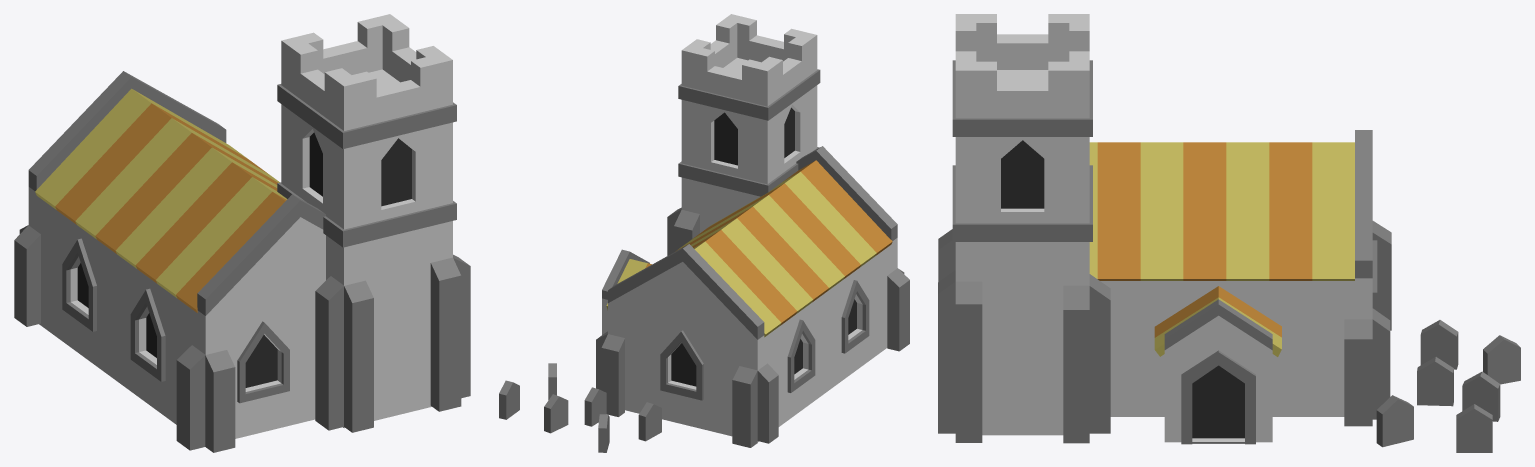
Rendered from Chruch1.fbx.
3 views of the same model, side by side, from view 1: azimuth 30°, elevation 25°; view 2: azimuth 150°, elevation 25°; view 3: azimuth 270°, elevation 25° (orthographic). The views are drawn at different scales.
Visible parts, largest first — view 1: Cube.001, Cube.222, Cube.003, Cube.221, Cube.220, Cube.060, Cube.243, Cube.006, Cube.007, Cube.244, Cube.009, Cube.061 (+3 smaller); view 2: Cube.001, Cube.222, Cube.003, Cube.243, Cube.008, Cube.058, Cube.007, Cube.009, Cube.244, Cube.235, Cube.240, Cube.219 (+7 smaller); view 3: Cube.222, Cube.003, Cube.001, Cube.219, Cube.062, Cube.063, Cube.242, Cube.002, Cube.244, Cube.243, Cube.059, Cube.221 (+11 smaller).
Part boxes in pixels (x1,y1,x2,y2): Cube.001: (28,71,325,438); Cube.222: (281,14,452,428); Cube.003: (35,88,287,312); Cube.221: (430,257,461,411); Cube.220: (344,280,373,432); Cube.060: (315,276,343,430); Cube.243: (277,84,456,148); Cube.006: (205,350,235,452); Cube.007: (176,345,205,450); Cube.244: (277,182,456,247); Cube.009: (14,225,40,326); Cube.061: (381,138,411,206); Cube.001: (608,146,897,442); Cube.222: (681,14,817,232); Cube.003: (675,160,892,337); Cube.243: (678,69,820,120); Cube.008: (732,366,757,447); Cube.058: (601,334,624,416); Cube.007: (887,268,909,351); Cube.009: (757,363,778,443); Cube.244: (678,147,819,196); Cube.235: (714,112,737,165); Cube.240: (671,343,696,386); Cube.219: (602,249,649,334); Cube.222: (955,14,1089,435); Cube.003: (1089,142,1354,280); Cube.001: (1100,130,1377,416); Cube.219: (1164,299,1272,444); Cube.062: (955,281,982,442); Cube.063: (1063,285,1089,443); Cube.242: (1192,365,1244,443); Cube.002: (1089,274,1110,433); Cube.244: (952,165,1092,241); Cube.243: (952,60,1092,136); Cube.059: (1344,319,1372,426); Cube.221: (938,270,955,433).
Size of the model in its own units: 1002 by 1156 by 1652.
